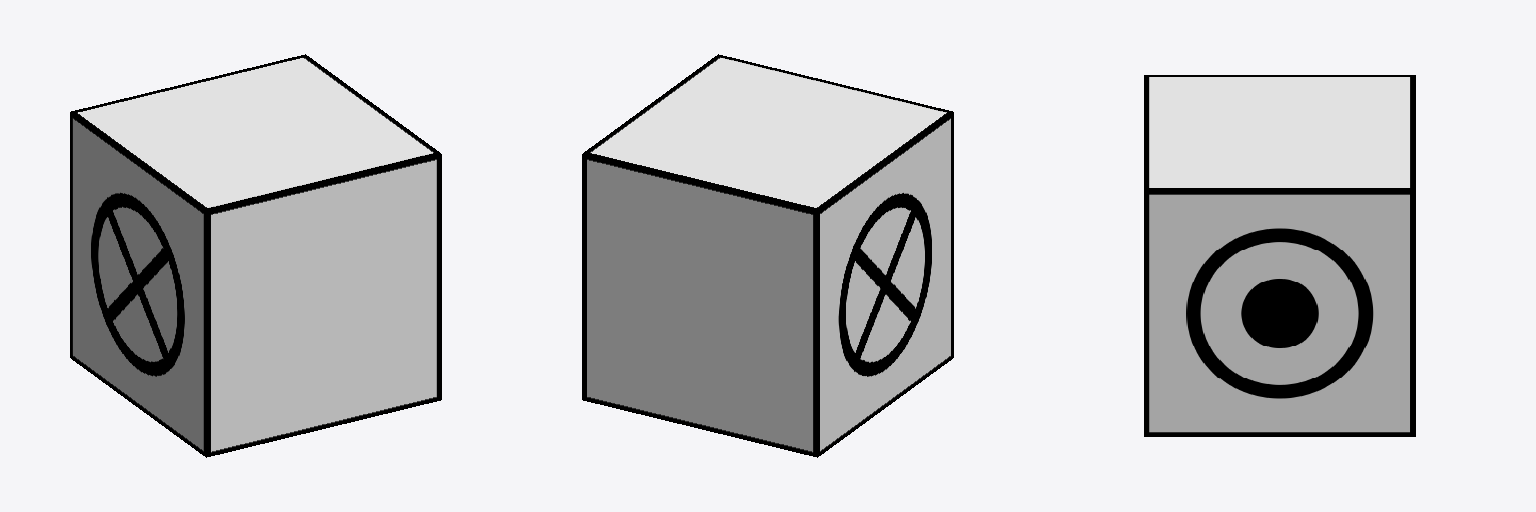
3 renders of one model, left to right at view 1: azimuth 30°, elevation 25°; view 2: azimuth 150°, elevation 25°; view 3: azimuth 270°, elevation 25°, orthographic.
Visible parts, largest first — view 1: Cube; view 2: Cube; view 3: Cube.
Boxes of the visible parts, <box> form: Cube: <box>70,54,441,457</box>; Cube: <box>582,54,953,457</box>; Cube: <box>1144,75,1415,436</box>.
Size of the model in its own units: 2 by 2 by 2.
Materials: 1 (1 with a texture image).